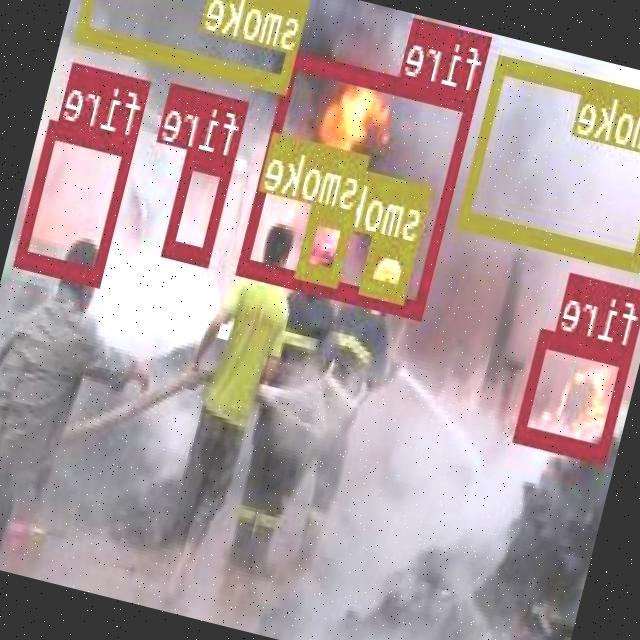fire: (238, 48, 478, 314), (16, 118, 138, 284), (516, 328, 635, 460), (164, 147, 236, 264)
smoke: (459, 51, 640, 268), (77, 0, 312, 90), (298, 202, 357, 283), (362, 233, 418, 300)
